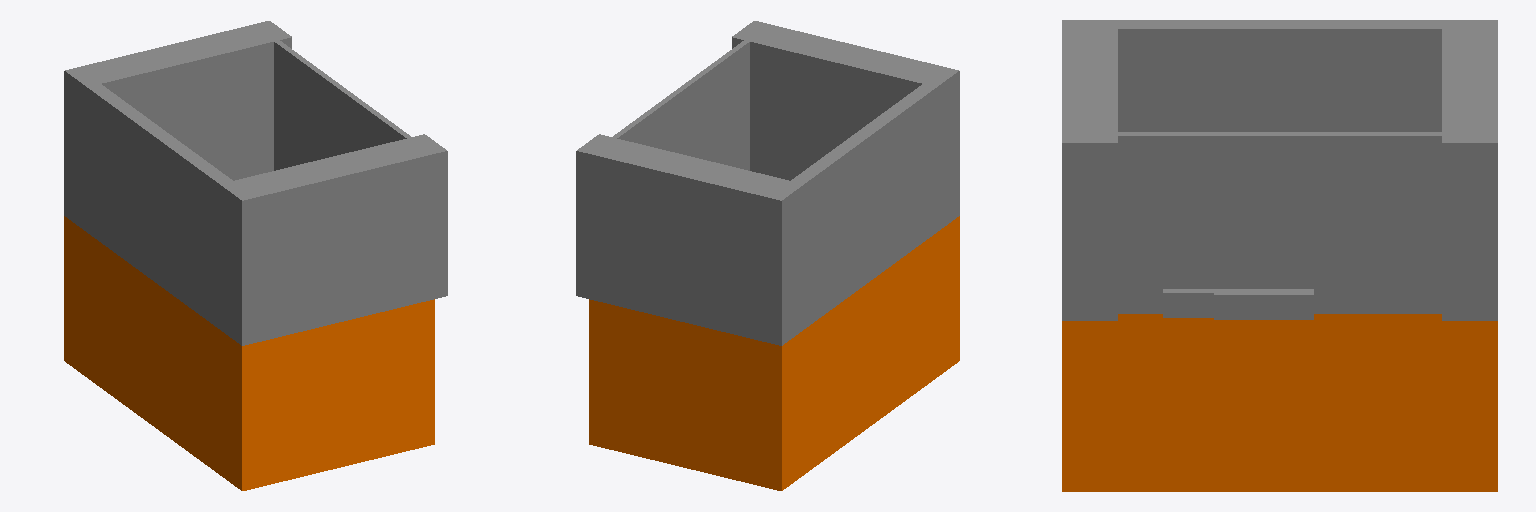
The robot description file, URDF, robot "mantis_ur5":
<?xml version="1.0" ?>
<!-- =================================================================================== -->
<!-- |    This document was autogenerated by xacro from urdf/mantis_ur5_arm_workspace.xacro | -->
<!-- |    EDITING THIS FILE BY HAND IS NOT RECOMMENDED                                 | -->
<!-- =================================================================================== -->
<robot name="mantis_ur5" xmlns:controller="http://playerstage.sourceforge.net/gazebo/xmlschema/#controller" xmlns:interface="http://playerstage.sourceforge.net/gazebo/xmlschema/#interface" xmlns:sensor="http://playerstage.sourceforge.net/gazebo/xmlschema/#sensor" xmlns:xacro="http://ros.org/wiki/xacro">
  <gazebo>
    <controller:gazebo_ros_controller_manager name="gazebo_ros_controller_manager" plugin="libgazebo_ros_controller_manager.so">
      <alwaysOn>true</alwaysOn>
      <updateRate>1000.0</updateRate>
      <interface:audio name="gazebo_ros_controller_manager_dummy_iface"/>
    </controller:gazebo_ros_controller_manager>
    <controller:gazebo_ros_power_monitor name="gazebo_ros_power_monitor_controller" plugin="libgazebo_ros_power_monitor.so">
      <alwaysOn>true</alwaysOn>
      <updateRate>1.0</updateRate>
      <timeout>5</timeout>
      <interface:audio name="power_monitor_dummy_interface"/>
      <powerStateTopic>power_state</powerStateTopic>
      <powerStateRate>10.0</powerStateRate>
      <fullChargeCapacity>87.78</fullChargeCapacity>
      <dischargeRate>-474</dischargeRate>
      <chargeRate>525</chargeRate>
      <dischargeVoltage>15.52</dischargeVoltage>
      <chargeVoltage>16.41</chargeVoltage>
    </controller:gazebo_ros_power_monitor>
  </gazebo>
  <material name="yellow_transparent">
    <color rgba="0 1 1 0.4"/>
  </material>
  <material name="orange_transparent">
    <color rgba="1 0.5 0 0.4"/>
  </material>
  <material name="gray_transparent">
    <color rgba="0.6 0.6 0.6 0.4"/>
  </material>
  <material name="blue_transparent">
    <color rgba="0 0.8 1 0.4"/>
  </material>
  <link name="workcell_frame"/>
  <!-- property list -->
  <!-- instantiating arm and gripper -->
  <link name="ur5_arm_base_link">
    <visual>
      <geometry>
        <mesh filename="package://ur5_description/meshes/Base.dae"/>
      </geometry>
      <origin rpy="0.0 0.0 2.3561944875" xyz="0.0 0.0 0.003"/>
    </visual>
    <inertial>
      <mass value="4.0"/>
      <inertia ixx="1.0" ixy="0.0" ixz="0.0" iyy="1.0" iyz="0.0" izz="1.0"/>
    </inertial>
  </link>
  <joint name="ur5_arm_shoulder_pan_joint" type="revolute">
    <parent link="ur5_arm_base_link"/>
    <child link="ur5_arm_shoulder_link"/>
    <origin rpy="0.0 0.0 0.0" xyz="0.0 0.0 0.089159"/>
    <axis xyz="0.0 0.0 1.0"/>
    <limit effort="10.0" lower="-6.2831853" upper="6.2831853" velocity="3.14159265"/>
    <dynamics damping="10" friction="0.1"/>
  </joint>
  <link name="ur5_arm_shoulder_link">
    <visual>
      <geometry>
        <mesh filename="package://ur5_description/meshes/Shoulder.dae"/>
      </geometry>
    </visual>
    <collision>
      <geometry>
        <cylinder length="0.16" radius="0.06"/>
      </geometry>
      <origin rpy="0.0 0.0 0.0" xyz="0.0 0.0 -0.009159"/>
    </collision>
    <inertial>
      <mass value="3.7"/>
      <inertia ixx="1.0" ixy="0.0" ixz="0.0" iyy="1.0" iyz="0.0" izz="1.0"/>
      <origin rpy="0.0 0.0 0.0" xyz="0.0 0.00193 -0.02561"/>
    </inertial>
  </link>
  <joint name="ur5_arm_shoulder_lift_joint" type="revolute">
    <parent link="ur5_arm_shoulder_link"/>
    <child link="ur5_arm_upper_arm_link"/>
    <origin rpy="0.0 1.570796325 0.0" xyz="0.0 0.13585 0.0"/>
    <axis xyz="0.0 1.0 0.0"/>
    <limit effort="10.0" lower="-6.2831853" upper="6.2831853" velocity="3.14159265"/>
    <dynamics damping="10" friction="0.1"/>
  </joint>
  <link name="ur5_arm_upper_arm_link">
    <visual>
      <geometry>
        <mesh filename="package://ur5_description/meshes/UpperArm.dae"/>
      </geometry>
      <origin rpy="0.0 0.0 0.0" xyz="0.0 0.0 0.0"/>
    </visual>
    <collision>
      <geometry>
        <cylinder length="0.425" radius="0.054"/>
      </geometry>
      <origin rpy="0.0 0.0 0.0" xyz="0.0 0.0 0.2125"/>
    </collision>
    <inertial>
      <mass value="8.393"/>
      <inertia ixx="1.0" ixy="0.0" ixz="0.0" iyy="1.0" iyz="0.0" izz="1.0"/>
      <origin rpy="0.0 0.0 0.0" xyz="0.0 -0.024201 0.2125"/>
    </inertial>
  </link>
  <joint name="ur5_arm_elbow_joint" type="revolute">
    <parent link="ur5_arm_upper_arm_link"/>
    <child link="ur5_arm_forearm_link"/>
    <origin rpy="0.0 0.0 0.0" xyz="0.0 -0.1197 0.425"/>
    <axis xyz="0.0 1.0 0.0"/>
    <limit effort="10.0" lower="-6.2831853" upper="6.2831853" velocity="3.14159265"/>
    <dynamics damping="10" friction="0.1"/>
  </joint>
  <link name="ur5_arm_forearm_link">
    <visual>
      <geometry>
        <mesh filename="package://ur5_description/meshes/Forearm.dae"/>
      </geometry>
    </visual>
    <collision>
      <geometry>
        <cylinder length="0.39225" radius="0.04"/>
      </geometry>
      <origin rpy="0.0 0.0 0.0" xyz="0.0 0.0 0.196125"/>
    </collision>
    <inertial>
      <mass value="2.275"/>
      <origin rpy="0.0 0.0 0.0" xyz="0.0 0.0265 0.11993"/>
      <inertia ixx="1.0" ixy="0.0" ixz="0.0" iyy="1.0" iyz="0.0" izz="1.0"/>
    </inertial>
  </link>
  <joint name="ur5_arm_wrist_1_joint" type="revolute">
    <parent link="ur5_arm_forearm_link"/>
    <child link="ur5_arm_wrist_1_link"/>
    <origin rpy="0.0 1.570796325 0.0" xyz="0.0 0.0 0.39225"/>
    <axis xyz="0.0 1.0 0.0"/>
    <limit effort="10.0" lower="-6.2831853" upper="6.2831853" velocity="3.14159265"/>
    <dynamics damping="10" friction="0.1"/>
  </joint>
  <link name="ur5_arm_wrist_1_link">
    <visual>
      <geometry>
        <mesh filename="package://ur5_description/meshes/Wrist1.dae"/>
      </geometry>
      <origin rpy="0.0 1.570796325 0.0" xyz="0.0 0.093 0.0"/>
    </visual>
    <collision>
      <geometry>
        <cylinder length="0.1488" radius="0.045"/>
      </geometry>
      <origin rpy="-1.570796325 0.0 0.0" xyz="0.0 0.02325 0.0"/>
    </collision>
    <inertial>
      <mass value="1.219"/>
      <origin rpy="0.0 0.0 0.0" xyz="0.0 0.110949 0.01634"/>
      <inertia ixx="1.0" ixy="0.0" ixz="0.0" iyy="1.0" iyz="0.0" izz="1.0"/>
    </inertial>
  </link>
  <joint name="ur5_arm_wrist_2_joint" type="revolute">
    <parent link="ur5_arm_wrist_1_link"/>
    <child link="ur5_arm_wrist_2_link"/>
    <origin rpy="0.0 0.0 0.0" xyz="0.0 0.093 0.0"/>
    <axis xyz="0.0 0.0 1.0"/>
    <limit effort="10.0" lower="-6.2831853" upper="6.2831853" velocity="3.14159265"/>
    <dynamics damping="10" friction="0.1"/>
  </joint>
  <link name="ur5_arm_wrist_2_link">
    <visual>
      <geometry>
        <mesh filename="package://ur5_description/meshes/Wrist2.dae"/>
      </geometry>
      <origin rpy="0.0 0.0 0.0" xyz="0.0 0.0 0.09465"/>
    </visual>
    <collision>
      <geometry>
        <cylinder length="0.15144" radius="0.045"/>
      </geometry>
      <origin rpy="0.0 0.0 0.0" xyz="0.0 0.0 0.0236625"/>
    </collision>
    <inertial>
      <mass value="1.219"/>
      <origin rpy="0.0 0.0 0.0" xyz="0.0 0.0018 0.11099"/>
      <inertia ixx="1.0" ixy="0.0" ixz="0.0" iyy="1.0" iyz="0.0" izz="1.0"/>
    </inertial>
  </link>
  <joint name="ur5_arm_wrist_3_joint" type="revolute">
    <parent link="ur5_arm_wrist_2_link"/>
    <child link="ur5_arm_wrist_3_link"/>
    <origin rpy="0.0 0.0 0.0" xyz="0.0 0.0 0.09465"/>
    <axis xyz="0.0 1.0 0.0"/>
    <limit effort="10.0" lower="-6.2831853" upper="6.2831853" velocity="3.14159265"/>
    <dynamics damping="10" friction="0.1"/>
  </joint>
  <link name="ur5_arm_wrist_3_link">
    <visual>
      <geometry>
        <mesh filename="package://ur5_description/meshes/Wrist3.dae"/>
      </geometry>
    </visual>
    <collision>
      <geometry>
        <cylinder length="0.135795" radius="0.045"/>
      </geometry>
      <origin rpy="-1.570796325 0.0 0.0" xyz="0.0 0.012345 0.0"/>
    </collision>
    <inertial>
      <mass value="0.1879"/>
      <origin rpy="0.0 0.0 0.0" xyz="0.0 0.001159 0.0"/>
      <inertia ixx="1.0" ixy="0.0" ixz="0.0" iyy="1.0" iyz="0.0" izz="1.0"/>
    </inertial>
  </link>
  <joint name="ur5_arm_ee_fixed_joint" type="fixed">
    <parent link="ur5_arm_wrist_3_link"/>
    <child link="ur5_arm_ee_link"/>
    <origin rpy="0.0 0.0 1.570796325" xyz="0.0 0.0823 0.0"/>
  </joint>
  <link name="ur5_arm_ee_link"/>
  <transmission name="shoulder_pan_trans" type="pr2_mechanism_model/SimpleTransmission">
    <actuator name="shoulder_pan_motor"/>
    <joint name="ur5_arm_shoulder_pan_joint"/>
    <mechanicalReduction>1</mechanicalReduction>
  </transmission>
  <transmission name="shoulder_lift_trans" type="pr2_mechanism_model/SimpleTransmission">
    <actuator name="shoulder_lift_motor"/>
    <joint name="ur5_arm_shoulder_lift_joint"/>
    <mechanicalReduction>1</mechanicalReduction>
  </transmission>
  <transmission name="elbow_trans" type="pr2_mechanism_model/SimpleTransmission">
    <actuator name="elbow_motor"/>
    <joint name="ur5_arm_elbow_joint"/>
    <mechanicalReduction>1</mechanicalReduction>
  </transmission>
  <transmission name="wrist_1_trans" type="pr2_mechanism_model/SimpleTransmission">
    <actuator name="wrist_1_motor"/>
    <joint name="ur5_arm_wrist_1_joint"/>
    <mechanicalReduction>1</mechanicalReduction>
  </transmission>
  <transmission name="wrist_2_trans" type="pr2_mechanism_model/SimpleTransmission">
    <actuator name="wrist_2_motor"/>
    <joint name="ur5_arm_wrist_2_joint"/>
    <mechanicalReduction>1</mechanicalReduction>
  </transmission>
  <transmission name="wrist_3_trans" type="pr2_mechanism_model/SimpleTransmission">
    <actuator name="wrist_3_motor"/>
    <joint name="ur5_arm_wrist_3_joint"/>
    <mechanicalReduction>1</mechanicalReduction>
  </transmission>
  <gazebo reference="universal_robot">
    <material>Gazebo/Blue</material>
  </gazebo>
  <link name="ur5_arm_gripper_frame"/>
  <link name="ur5_arm_gripper_body">
    <visual>
      <!--origin xyz="0 0.036 -0.0473" rpy="0 0 0"/-->
      <geometry>
        <box size="0.044 0.088 0.0946"/>
      </geometry>
      <material name="another_blue1">
        <color rgba="0.40 0.40 0.80 1"/>
      </material>
    </visual>
    <collision>
      <geometry>
        <box size="0.044 0.088 0.0946"/>
      </geometry>
      <material name="another_blue2">
        <color rgba="0.38 0.54 0.83 1"/>
      </material>
    </collision>
  </link>
  <link name="ur5_arm_tcp_frame"/>
  <joint name="ur5_arm_gripper_to_palm" type="fixed">
    <parent link="ur5_arm_gripper_frame"/>
    <child link="ur5_arm_gripper_body"/>
    <origin rpy="0 0 0" xyz="0 0 0.0473"/>
  </joint>
  <joint name="ur5_arm_gripper_to_tcp" type="fixed">
    <parent link="ur5_arm_gripper_frame"/>
    <child link="ur5_arm_tcp_frame"/>
    <origin rpy="0 0 0" xyz="0.022 0 0.0946"/>
  </joint>
  <!-- instantiating workcell definitions -->
  <link name="table_base2">
    <visual>
      <origin rpy="0 0 0" xyz="0 0 -0.5"/>
      <geometry>
        <box size="1.3875 2.22 1"/>
      </geometry>
      <material name="orange_transparent"/>
    </visual>
    <collision>
      <origin rpy="0 0 0" xyz="0 0 -0.5"/>
      <geometry>
        <box size="1.3875 2.22 1"/>
      </geometry>
      <material name="blue_transparent"/>
    </collision>
  </link>
  <joint name="workcell_to_table_base2" type="fixed">
    <parent link="workcell_frame"/>
    <child link="table_base2"/>
    <origin rpy="0 0 0" xyz="-0.69375 0 0"/>
  </joint>
  <link name="front_wall2">
    <visual>
      <geometry>
        <box size="0.1 2.22 1"/>
      </geometry>
      <material name="gray_transparent"/>
    </visual>
    <collision>
      <geometry>
        <box size="0.1 2.22 1"/>
      </geometry>
      <material name="blue_transparent"/>
    </collision>
  </link>
  <joint name="workcell_frame_to_front_wall2" type="fixed">
    <parent link="workcell_frame"/>
    <child link="front_wall2"/>
    <origin rpy="0 0 0" xyz="-1.3375 0 0.5"/>
  </joint>
  <link name="back_wall2">
    <visual>
      <geometry>
        <box size="0.04 2.0 1"/>
      </geometry>
      <material name="gray_transparent"/>
    </visual>
    <collision>
      <geometry>
        <box size="0.04 2.0 1"/>
      </geometry>
      <material name="blue_transparent"/>
    </collision>
  </link>
  <joint name="workcell_frame_to_back_wall2" type="fixed">
    <parent link="workcell_frame"/>
    <child link="back_wall2"/>
    <origin rpy="0 0 0" xyz="-0.02 0 0.5"/>
  </joint>
  <link name="left_wall2">
    <visual>
      <geometry>
        <box size="1.384 0.284 1"/>
      </geometry>
      <material name="gray_transparent"/>
    </visual>
    <collision>
      <geometry>
        <box size="1.384 0.284 1"/>
      </geometry>
      <material name="blue_transparent"/>
    </collision>
  </link>
  <joint name="workcell_frame_to_left_wall2" type="fixed">
    <parent link="workcell_frame"/>
    <child link="left_wall2"/>
    <origin rpy="0 0 0" xyz="-0.601 0.968 0.5"/>
  </joint>
  <link name="right_wall2">
    <visual>
      <geometry>
        <box size="1.384 0.284 1"/>
      </geometry>
      <material name="gray_transparent"/>
    </visual>
    <collision>
      <geometry>
        <box size="1.384 0.284 1"/>
      </geometry>
      <material name="blue_transparent"/>
    </collision>
  </link>
  <joint name="workcell_frame_to_right_wall2" type="fixed">
    <parent link="workcell_frame"/>
    <child link="right_wall2"/>
    <origin rpy="0 0 0" xyz="-0.601 -0.968 0.5"/>
  </joint>
  <link name="cover_part1">
    <visual>
      <geometry>
        <box size="0.229 0.508 0.14"/>
      </geometry>
      <material name="gray_transparent"/>
    </visual>
    <collision>
      <geometry>
        <box size="0.229 0.508 0.14"/>
      </geometry>
      <material name="blue_transparent"/>
    </collision>
  </link>
  <joint name="workcell_frame_to_cover_part1" type="fixed">
    <parent link="workcell_frame"/>
    <child link="cover_part1"/>
    <origin rpy="0 0 0" xyz="-0.042 -0.081 0.07"/>
  </joint>
  <link name="cover_part2">
    <visual>
      <geometry>
        <box size="0.121 0.26 0.14"/>
      </geometry>
      <material name="gray_transparent"/>
    </visual>
    <collision>
      <geometry>
        <box size="0.121 0.26 0.14"/>
      </geometry>
      <material name="blue_transparent"/>
    </collision>
  </link>
  <joint name="workcell_frame_to_cover_part2" type="fixed">
    <parent link="workcell_frame"/>
    <child link="cover_part2"/>
    <origin rpy="0 0 0" xyz="-0.012 -0.465 0.07"/>
  </joint>
  <!-- end of workcell definitions -->
  <!-- instantiating sensor definitions -->
  <material name="ur5_arm_color_b">
    <color rgba="0 0.8 1 0.4"/>
  </material>
  <material name="ur5_arm_color_a">
    <color rgba="0.8 0.2 1 0.2"/>
  </material>
  <material name="ur5_arm_silver">
    <color rgba="0.6 0.6 0.6 1"/>
  </material>
  <link name="ur5_arm_kinect">
    <collision>
      <material name="ur5_arm_color_a"/>
      <geometry>
        <box size="0.36 0.28 0.22"/>
      </geometry>
    </collision>
  </link>
  <link name="ur5_arm_kinect_keepout">
    <collision>
      <material name="ur5_arm_color_b"/>
      <geometry>
        <box size="0.2 0.32 0.48"/>
      </geometry>
    </collision>
  </link>
  <link name="ur5_arm_kinect_frame">
    <visual>
      <origin rpy="0 0 0" xyz="0 0 0"/>
      <geometry>
        <box size="0.064 0.28 0.04"/>
      </geometry>
      <material name="ur5_arm_silver"/>
    </visual>
    <collision>
      <origin rpy="0 0 0" xyz="0 0 0"/>
      <geometry>
        <box size="0.064 0.28 0.04"/>
      </geometry>
    </collision>
  </link>
  <link name="ur5_arm_kinect_ir_link">
    <visual>
      <origin rpy="0 0 0" xyz="0 0 0"/>
      <geometry>
        <sphere radius="0.0005"/>
      </geometry>
    </visual>
  </link>
  <link name="ur5_arm_kinect_rgb_link">
    <visual>
      <origin rpy="0 0 0" xyz="0 0 0"/>
      <geometry>
        <sphere radius="0.0005"/>
      </geometry>
    </visual>
  </link>
  <link name="ur5_arm_kinect_ir_optical_frame"/>
  <link name="ur5_arm_kinect_rgb_optical_frame"/>
  <joint name="ur5_arm_kinect_frame_joint" type="fixed">
    <parent link="ur5_arm_kinect"/>
    <child link="ur5_arm_kinect_frame"/>
    <origin rpy="0 0 0" xyz="0 0 0"/>
  </joint>
  <joint name="ur5_arm_kinect_ir_joint" type="fixed">
    <parent link="ur5_arm_kinect_frame"/>
    <child link="ur5_arm_kinect_ir_link"/>
    <origin rpy="0 0 0" xyz="0 0 0"/>
  </joint>
  <joint name="ur5_arm_kinect_ir_optical_frame_joint" type="fixed">
    <parent link="ur5_arm_kinect_ir_link"/>
    <child link="ur5_arm_kinect_ir_optical_frame"/>
    <origin rpy="-1.57 0 -1.57" xyz="0 0 0"/>
  </joint>
  <joint name="ur5_arm_kinect_rgb_joint" type="fixed">
    <parent link="ur5_arm_kinect_ir_link"/>
    <child link="ur5_arm_kinect_rgb_link"/>
    <origin rpy="0 0 0" xyz="0 -0.03 0"/>
  </joint>
  <joint name="ur5_arm_kinect_rgb_optical_frame_joint" type="fixed">
    <parent link="ur5_arm_kinect_rgb_link"/>
    <child link="ur5_arm_kinect_rgb_optical_frame"/>
    <origin rpy="-1.57 0 -1.57" xyz="0 0 0"/>
  </joint>
  <joint name="ur5_arm_workcell_frame_to_kinect" type="fixed">
    <parent link="workcell_frame"/>
    <child link="ur5_arm_kinect"/>
    <origin rpy="0 0.5235 0" xyz="-1.2 0 0.4"/>
  </joint>
  <joint name="ur5_arm_workcell_frame_to_kinect_keepout" type="fixed">
    <parent link="workcell_frame"/>
    <child link="ur5_arm_kinect_keepout"/>
    <origin rpy="0 0 0" xyz="-1.2 0 0.24"/>
  </joint>
  <!-- end of sensor definitions -->
  <!-- arm-workcell link definitions -->
  <link name="ur5_stand">
    <visual>
      <geometry>
        <cylinder length="0.20" radius="0.0735"/>
      </geometry>
      <material name="orange_transparent"/>
    </visual>
    <collision>
      <geometry>
        <cylinder length="0.20" radius="0.0735"/>
      </geometry>
      <material name="blue_transparent"/>
    </collision>
  </link>
  <joint name="workcell_to_stand" type="fixed">
    <parent link="workcell_frame"/>
    <child link="ur5_stand"/>
    <origin xyz="-0.238 0 0.10"/>
  </joint>
  <!-- end of arm-workcell link definitions -->
  <!-- arm-workcell joint definitions -->
  <joint name="ur5_to_stand" type="fixed">
    <parent link="ur5_stand"/>
    <child link="ur5_arm_base_link"/>
    <origin rpy="0 0 -3.14" xyz="0 0 0.10"/>
  </joint>
  <!-- end of arm workcell joint definitions-->
  <!-- arm-gripper coupling joint definitions -->
  <joint name="ur5_to_gripper" type="fixed">
    <parent link="ur5_arm_ee_link"/>
    <child link="ur5_arm_gripper_frame"/>
    <origin rpy="0 1.57 0" xyz="0 0 0"/>
  </joint>
  <!-- end of arm-gripper coupling joint definitions -->
</robot>

--- What the picture shows (computed from the rendered views, not written in the file) ---
Views: 3 orthographic renders of the robot side by side, from view 1: azimuth 30°, elevation 25°; view 2: azimuth 150°, elevation 25°; view 3: azimuth 270°, elevation 25°.
Robot: mantis_ur5 — 27 links, 26 joints (6 revolute, 20 fixed); root link workcell_frame; default pose: every joint at zero.
Links seen in each view (by area): view 1: table_base2, right_wall2, front_wall2, left_wall2, back_wall2; view 2: table_base2, left_wall2, front_wall2, right_wall2, back_wall2; view 3: table_base2, back_wall2, front_wall2, left_wall2, right_wall2, cover_part1, cover_part2.
Boxes of the visible links, x1,y1,x2,y2 form: table_base2: [64, 216, 434, 490]; right_wall2: [234, 134, 447, 342]; front_wall2: [64, 67, 255, 345]; left_wall2: [78, 21, 291, 180]; back_wall2: [260, 30, 424, 170]; table_base2: [589, 216, 959, 490]; left_wall2: [576, 134, 790, 342]; front_wall2: [768, 67, 959, 345]; right_wall2: [732, 21, 944, 180]; back_wall2: [600, 31, 763, 170]; table_base2: [1062, 314, 1497, 491]; back_wall2: [1097, 132, 1459, 313]; front_wall2: [1062, 20, 1497, 131]; left_wall2: [1442, 28, 1497, 320]; right_wall2: [1062, 28, 1117, 320]; cover_part1: [1214, 289, 1313, 319]; cover_part2: [1163, 289, 1213, 317].
Size in the robot's own frame: 1.48 by 2.22 by 2 metres.
Meshes: 7 distinct files referenced, 0 mesh visuals loaded (none loaded); not drawn: 7 (reference not matched to a file when rendering).